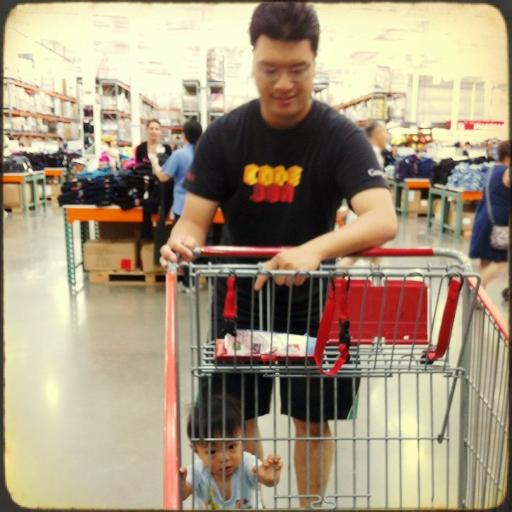Person: (168, 0, 384, 505), (164, 394, 271, 511), (124, 114, 182, 272)
goggles: (251, 60, 316, 88)
no_gloves: (256, 237, 319, 294), (148, 453, 212, 509), (147, 226, 211, 282), (237, 441, 301, 497)
no_goggle: (194, 436, 240, 456), (132, 124, 178, 134)
no_helmet: (236, 1, 324, 56), (176, 382, 264, 437), (132, 106, 178, 126)
none: (185, 97, 371, 339)
